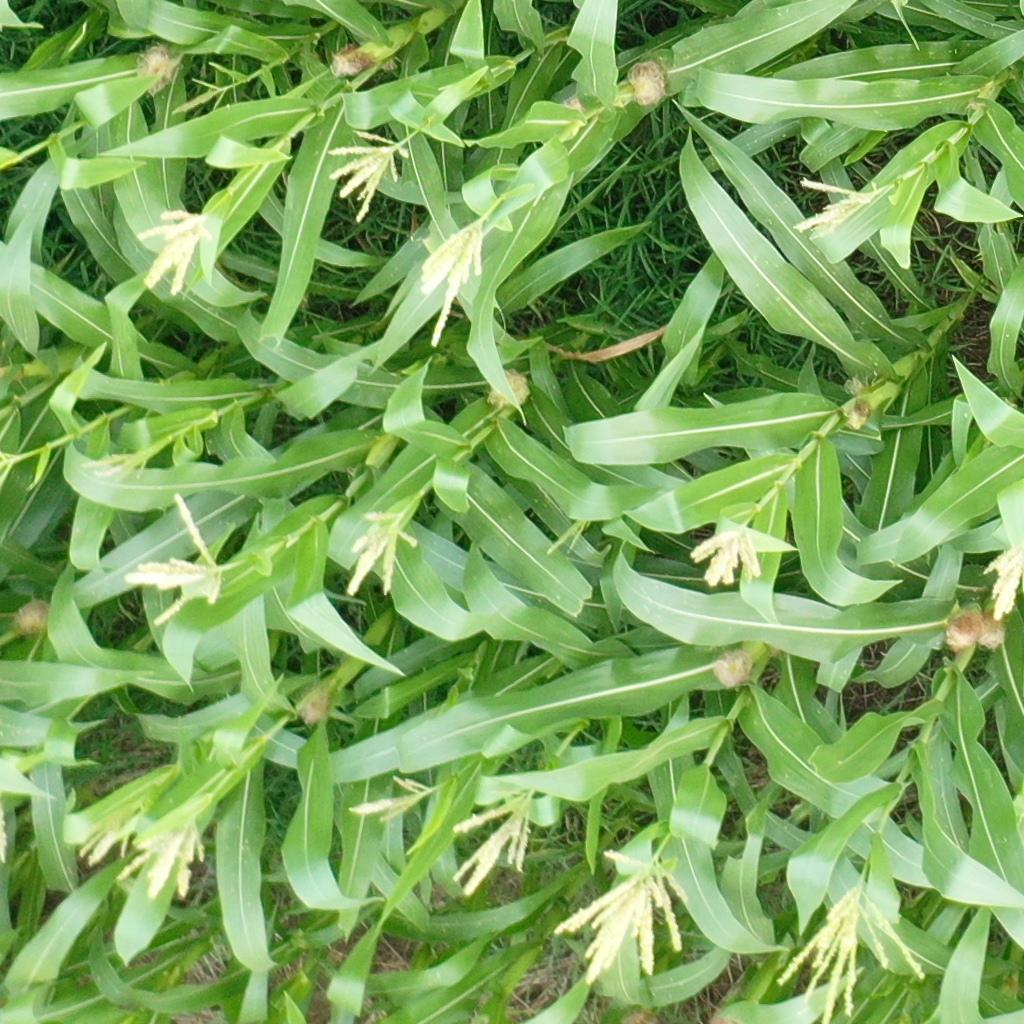Tassel: (774, 880, 925, 1024), (549, 848, 689, 983), (125, 493, 221, 627), (415, 217, 487, 349), (450, 788, 534, 898), (326, 128, 414, 226), (114, 821, 210, 899), (134, 210, 217, 298), (344, 510, 419, 602), (793, 176, 895, 243), (688, 527, 764, 587), (342, 772, 434, 821), (78, 810, 140, 865), (984, 542, 1024, 623), (78, 446, 149, 482), (170, 73, 228, 117), (545, 514, 593, 556), (1, 450, 19, 490)
